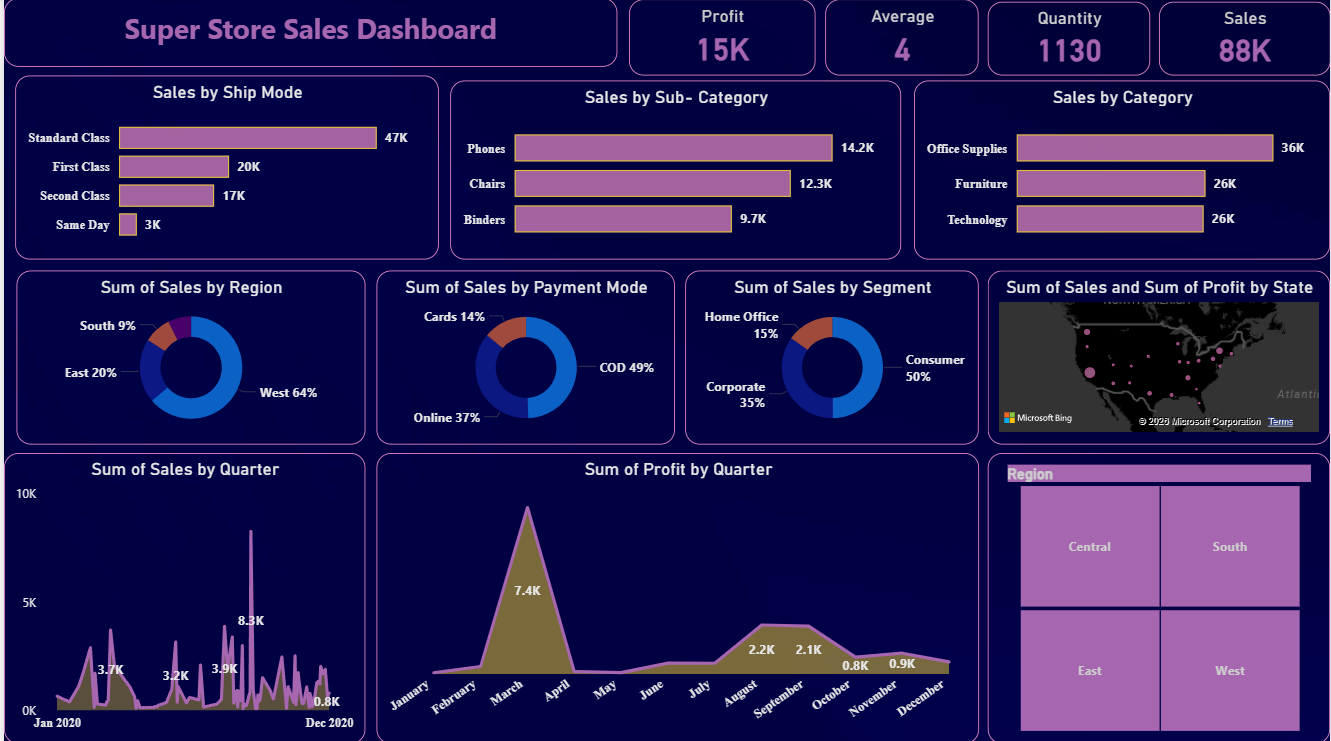

The page's visual inventory and layout, read from the dashboard file:
{"tool":"powerbi","page":{"name":"Page 1","canvas":[1280,720],"ordinal":0},"visuals":[{"type":"clusteredBarChart","title":"Sales by Category","fields":{"Category":["Super Store Sales Data.Category"],"Y":["Sum(Super Store Sales Data.Sales)"]},"box":[878.3,79.6,401.7,172.5],"z":0},{"type":"clusteredBarChart","title":"Sales by Sub- Category","fields":{"Category":["Super Store Sales Data.Sub-Category"],"Y":["Sum(Super Store Sales Data.Sales)"]},"box":[430.7,79.6,435.5,172.5],"z":1000},{"type":"clusteredBarChart","title":"Sales by Ship Mode","fields":{"Category":["Super Store Sales Data.Ship Mode"],"Y":["Sum(Super Store Sales Data.Sales)"]},"box":[10.9,74.8,409,177.3],"z":2000},{"type":"stackedAreaChart","title":"Sum of Sales by  Quarter","fields":{"Y":["Sum(Super Store Sales Data.Sales)"],"Category":["Super Store Sales Data.Order Date.Variation.Date Hierarchy.Year","Super Store Sales Data.Order Date.Variation.Date Hierarchy.Quarter","Super Store Sales Data.Order Date.Variation.Date Hierarchy.Month","Super Store Sales Data.Order Date.Variation.Date Hierarchy.Day"]},"box":[0,439.1,348.7,281.1],"z":3000},{"type":"stackedAreaChart","title":"Sum of Profit by  Quarter","fields":{"Category":["Super Store Sales Data.Order Date.Variation.Date Hierarchy.Month"],"Y":["Sum(Super Store Sales Data.Profit)"]},"box":[359.5,439.1,581.5,281.1],"z":3001},{"type":"map","fields":{"Category":["Super Store Sales Data.State"],"Size":["Sum(Super Store Sales Data.Sales)"]},"box":[949.5,263,330.6,167.7],"z":3002},{"type":"donutChart","fields":{"Category":["Super Store Sales Data.Segment"],"Y":["Sum(Super Store Sales Data.Sales)"]},"box":[657.5,263,283.5,167.7],"z":3003},{"type":"donutChart","fields":{"Category":["Super Store Sales Data.Payment Mode"],"Y":["Sum(Super Store Sales Data.Sales)"]},"box":[359.5,263,288.3,167.7],"z":3004},{"type":"slicer","fields":{"Values":["Super Store Sales Data.Region"]},"box":[949.5,439.1,330.6,281.1],"z":3005},{"type":"textbox","box":[0,0,592.4,66.4],"z":3006},{"type":"card","title":"Sales","fields":{"Values":["Sum(Super Store Sales Data.Sales)"]},"box":[1114.8,3.6,165.3,71.2],"z":3007},{"type":"card","title":"Quantity","fields":{"Values":["Sum(Super Store Sales Data.Quantity)"]},"box":[949.5,3.6,156.8,71.2],"z":3008},{"type":"card","title":"Profit","fields":{"Values":["Sum(Super Store Sales Data.Profit)"]},"box":[603.2,1.2,179.8,73.6],"z":3009},{"type":"card","title":"Average","fields":{"Values":["Avg(Super Store Sales Data.Avg Delivery)"]},"box":[792.6,1.2,148.4,73.6],"z":3010},{"type":"donutChart","fields":{"Y":["Sum(Super Store Sales Data.Sales)"],"Category":["Super Store Sales Data.Region"]},"box":[12.1,263,336.6,167.7],"z":3011}]}

Visuals, with their boxes in screenshot pixels (x1, y1, x2, y2), scaled from the page's 1280x720 canvas onto the 1331x741 screenshot:
"Sales by Category" clusteredBarChart: (913, 82, 1330, 259)
"Sales by Sub- Category" clusteredBarChart: (448, 82, 901, 259)
"Sales by Ship Mode" clusteredBarChart: (11, 77, 437, 259)
"Sum of Sales by  Quarter" stackedAreaChart: (0, 452, 363, 740)
"Sum of Profit by  Quarter" stackedAreaChart: (374, 452, 978, 740)
map - Super Store Sales Data.State x Sum(Super Store Sales Data.Sales): (987, 271, 1330, 443)
donutChart - Super Store Sales Data.Segment x Sum(Super Store Sales Data.Sales): (684, 271, 978, 443)
donutChart - Super Store Sales Data.Payment Mode x Sum(Super Store Sales Data.Sales): (374, 271, 674, 443)
slicer - Super Store Sales Data.Region: (987, 452, 1330, 740)
textbox: (0, 0, 616, 68)
"Sales" card: (1159, 4, 1330, 77)
"Quantity" card: (987, 4, 1150, 77)
"Profit" card: (627, 1, 814, 77)
"Average" card: (824, 1, 978, 77)
donutChart - Sum(Super Store Sales Data.Sales) x Super Store Sales Data.Region: (13, 271, 363, 443)
